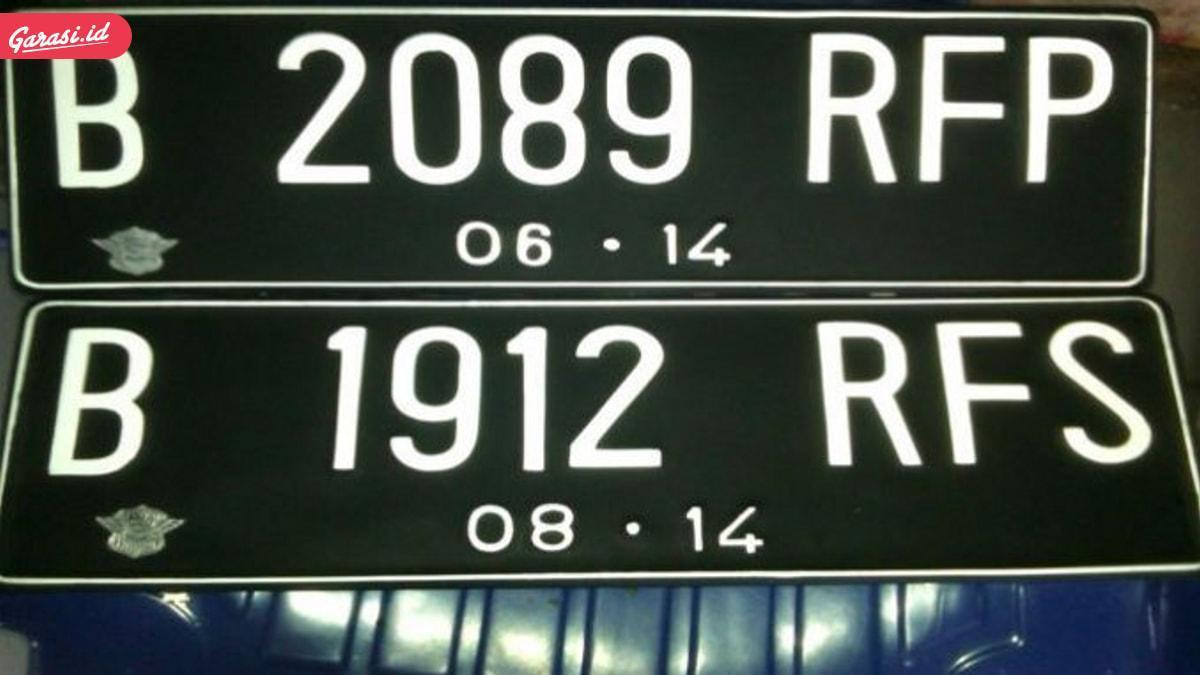0: (376, 24, 488, 200)
1: (306, 320, 383, 484), (499, 318, 566, 480)
2: (266, 22, 377, 202), (559, 317, 679, 475)
8: (486, 22, 594, 196)
9: (592, 24, 708, 196), (383, 320, 486, 478)
B: (43, 31, 167, 205), (44, 316, 157, 488)
F: (908, 28, 1022, 196), (929, 314, 1040, 470)
P: (1023, 26, 1122, 193)
R: (792, 22, 910, 196), (805, 312, 920, 473)
S: (1043, 315, 1170, 473)
